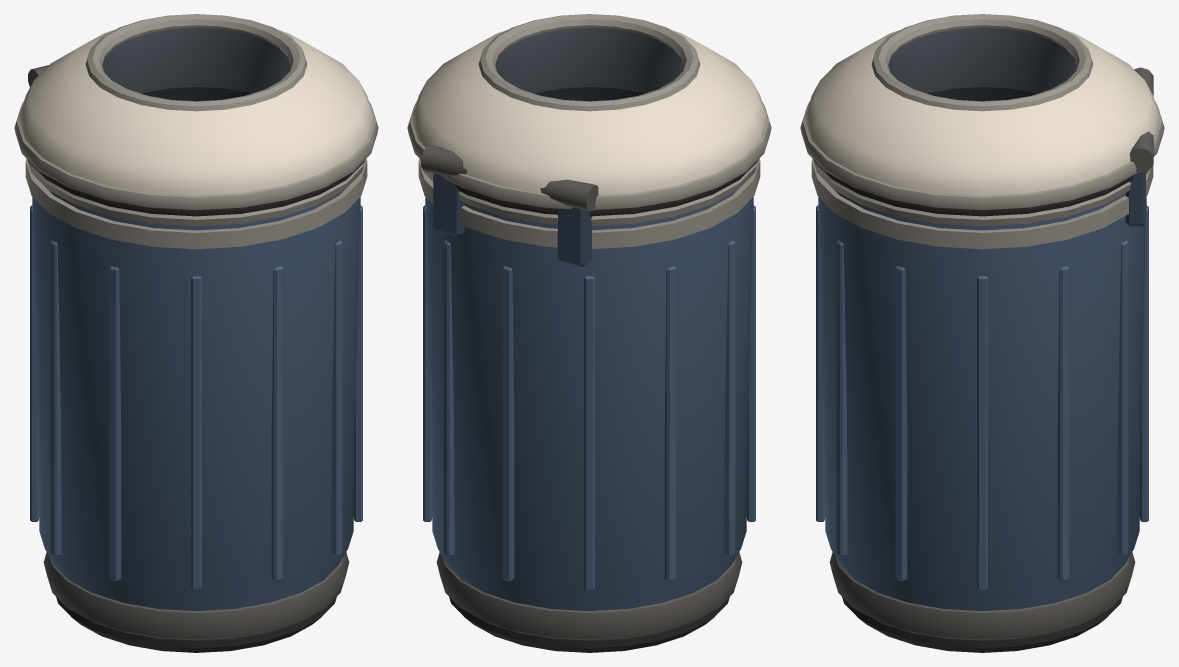
Rendered from bin-portable.glb.
3 views of the same model, side by side, from view 1: azimuth 30°, elevation 25°; view 2: azimuth 150°, elevation 25°; view 3: azimuth 270°, elevation 25° (orthographic).
Visible parts, largest first — view 1: bin.bin.drum.0, bin.bin.lid.pressed-painted-shell.3, bin.bin.mouth.inner-liner-upper.6, bin.bin.base.rolled-shoe.9, bin.bin.mouth.rolled-metal-lip.5, bin.bin.lid.outer-rolled-hem.4, bin.bin.neck.lid-seat.1, bin.bin.base.contact-pad.10, bin.bin.neck.compressed-gasket.2, bin.bin.mouth.inner-liner-lower.7; view 2: bin.bin.drum.0, bin.bin.lid.pressed-painted-shell.3, bin.bin.mouth.inner-liner-upper.6, bin.bin.base.rolled-shoe.9, bin.bin.mouth.rolled-metal-lip.5, bin.bin.lid.hinge.11, bin.bin.lid.outer-rolled-hem.4, bin.bin.base.contact-pad.10, bin.bin.neck.lid-seat.1, bin.bin.neck.compressed-gasket.2, bin.bin.mouth.inner-liner-lower.7; view 3: bin.bin.drum.0, bin.bin.lid.pressed-painted-shell.3, bin.bin.mouth.inner-liner-upper.6, bin.bin.base.rolled-shoe.9, bin.bin.mouth.rolled-metal-lip.5, bin.bin.lid.outer-rolled-hem.4, bin.bin.neck.lid-seat.1, bin.bin.base.contact-pad.10, bin.bin.neck.compressed-gasket.2, bin.bin.lid.hinge.11, bin.bin.mouth.inner-liner-lower.7.
Boxes of the visible parts, x1,y1,x2,y2 form: bin.bin.drum.0: [25, 158, 367, 641]; bin.bin.lid.pressed-painted-shell.3: [19, 30, 373, 195]; bin.bin.mouth.inner-liner-upper.6: [102, 27, 290, 93]; bin.bin.base.rolled-shoe.9: [43, 552, 349, 640]; bin.bin.mouth.rolled-metal-lip.5: [85, 14, 307, 111]; bin.bin.lid.outer-rolled-hem.4: [14, 101, 378, 210]; bin.bin.neck.lid-seat.1: [27, 159, 365, 226]; bin.bin.base.contact-pad.10: [56, 597, 336, 652]; bin.bin.neck.compressed-gasket.2: [28, 160, 364, 216]; bin.bin.mouth.inner-liner-lower.7: [142, 87, 250, 101]; bin.bin.drum.0: [418, 158, 760, 641]; bin.bin.lid.pressed-painted-shell.3: [412, 30, 766, 195]; bin.bin.mouth.inner-liner-upper.6: [495, 27, 683, 93]; bin.bin.base.rolled-shoe.9: [436, 552, 742, 640]; bin.bin.mouth.rolled-metal-lip.5: [478, 14, 700, 111]; bin.bin.lid.hinge.11: [421, 145, 598, 266]; bin.bin.lid.outer-rolled-hem.4: [407, 101, 771, 209]; bin.bin.base.contact-pad.10: [449, 597, 729, 652]; bin.bin.neck.lid-seat.1: [420, 159, 758, 225]; bin.bin.neck.compressed-gasket.2: [456, 160, 757, 216]; bin.bin.mouth.inner-liner-lower.7: [535, 87, 643, 101]; bin.bin.drum.0: [811, 158, 1153, 641]; bin.bin.lid.pressed-painted-shell.3: [805, 30, 1159, 195]; bin.bin.mouth.inner-liner-upper.6: [888, 27, 1076, 93]; bin.bin.base.rolled-shoe.9: [829, 552, 1135, 640]; bin.bin.mouth.rolled-metal-lip.5: [871, 14, 1093, 111]; bin.bin.lid.outer-rolled-hem.4: [800, 101, 1164, 210]; bin.bin.neck.lid-seat.1: [813, 159, 1148, 226]; bin.bin.base.contact-pad.10: [842, 597, 1122, 652]; bin.bin.neck.compressed-gasket.2: [814, 160, 1134, 216]; bin.bin.lid.hinge.11: [1125, 67, 1153, 226]; bin.bin.mouth.inner-liner-lower.7: [928, 87, 1036, 101].
Size of the model in its own units: 0.61 by 0.995 by 0.61.
